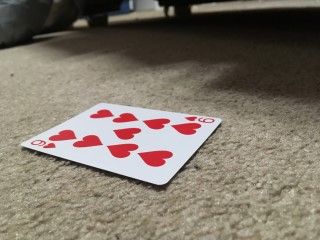NineOfHearts: (21, 103, 222, 186)
